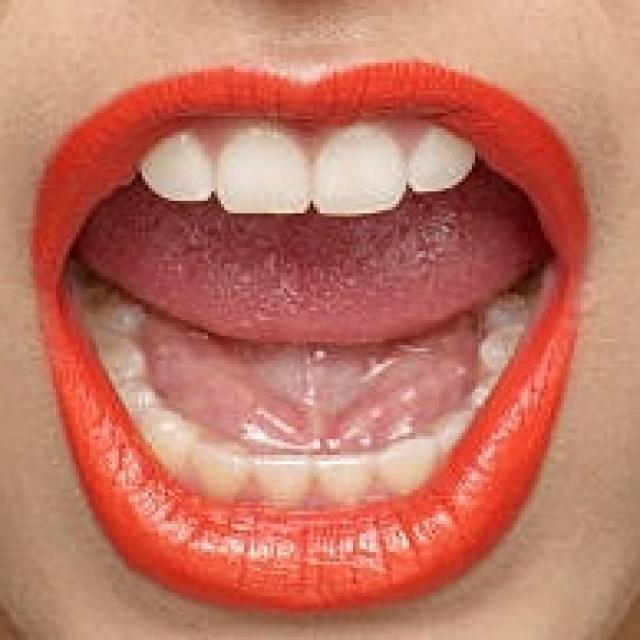open-mouth: (26, 56, 594, 612)
